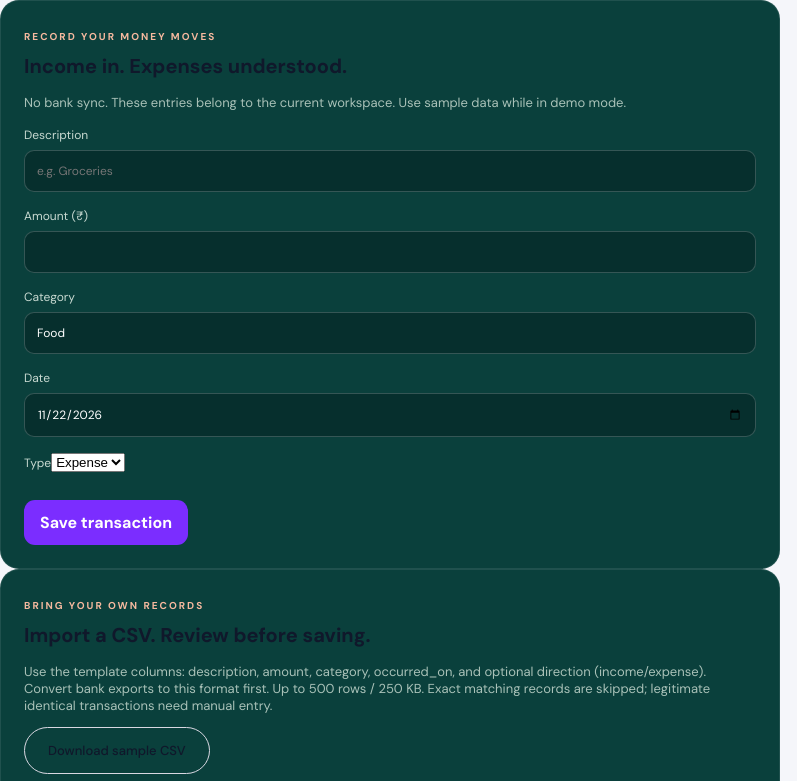
Test: money tools › saves a manual transaction and refreshes the ledger
This screenshot has width=797, height=781.
Type "Audit lunch" into the field labelled "Description" at (390, 171), box [24, 150, 756, 192]
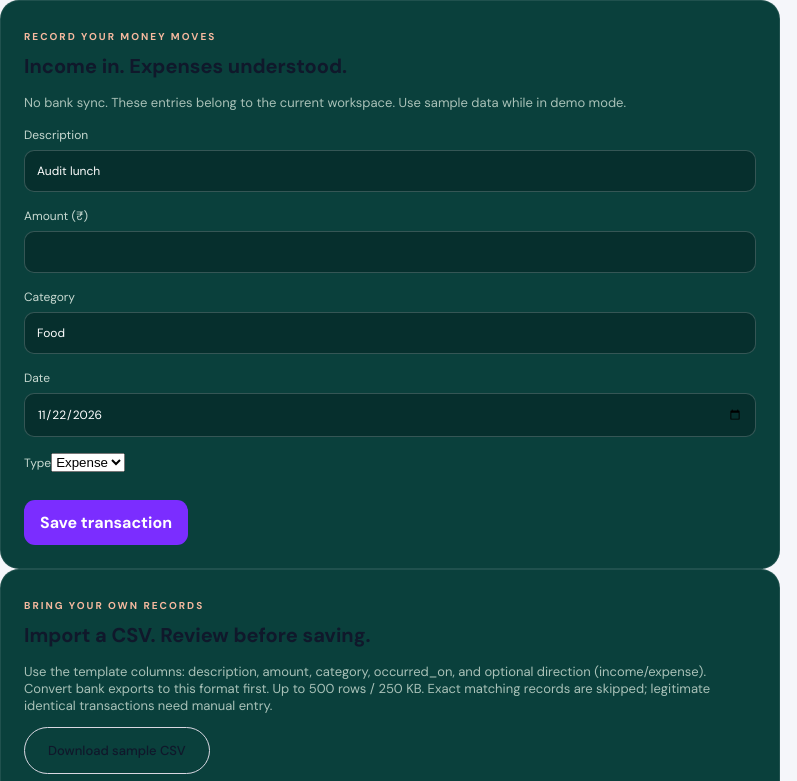
Type "12.50" into the number field labelled "Amount (₹)" at (390, 252), box [24, 231, 756, 273]
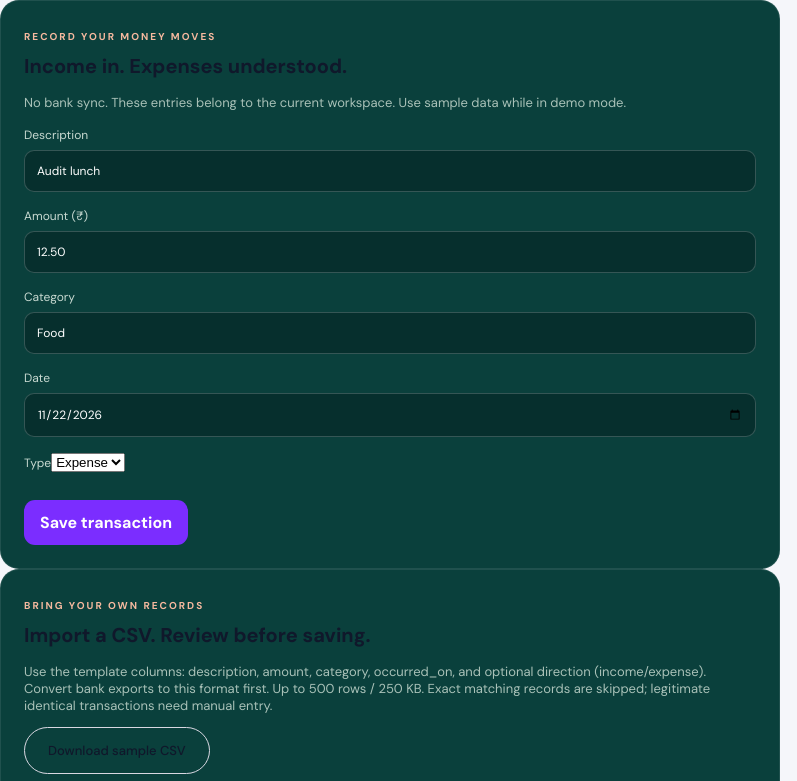
Click the button "Save transaction" at (106, 522), box [24, 500, 188, 545]
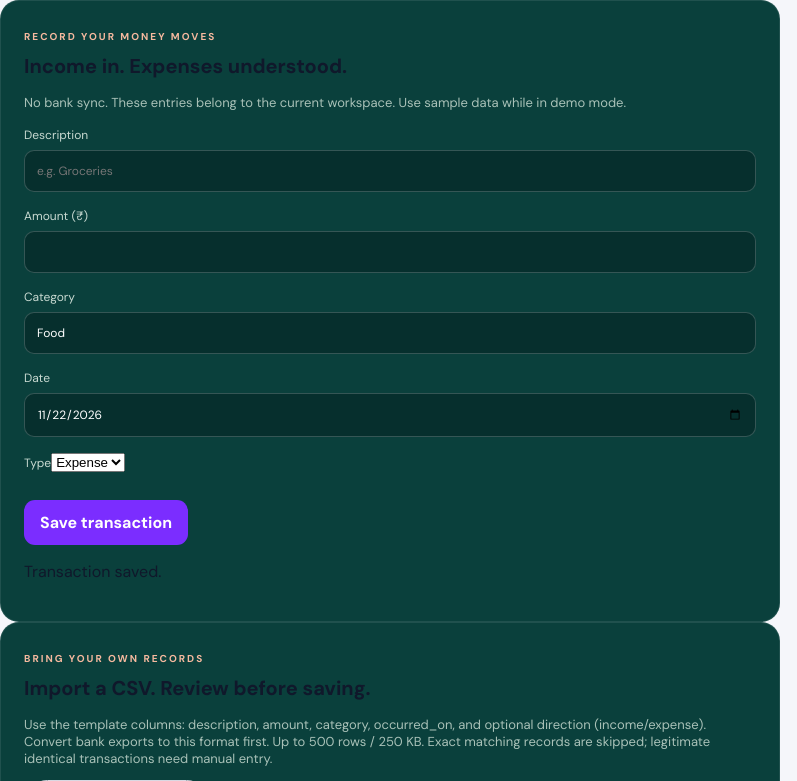
Expected: the text "Transaction saved." is shown, [24, 561, 161, 582]
